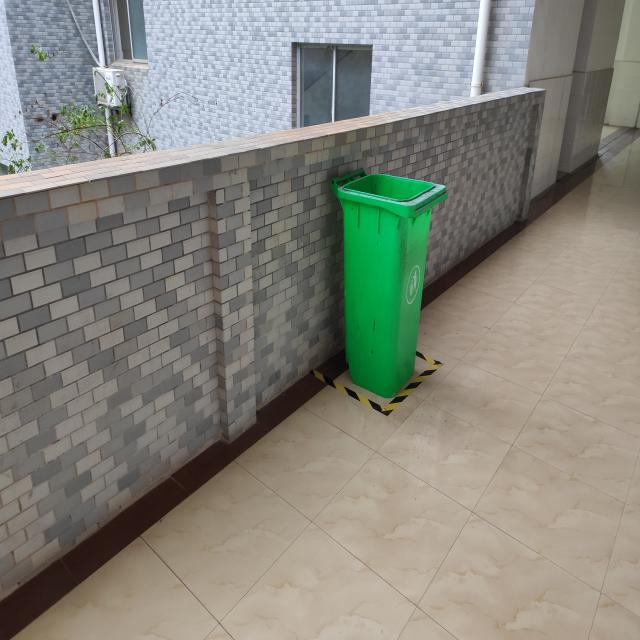ash bin: (328, 164, 448, 400)
